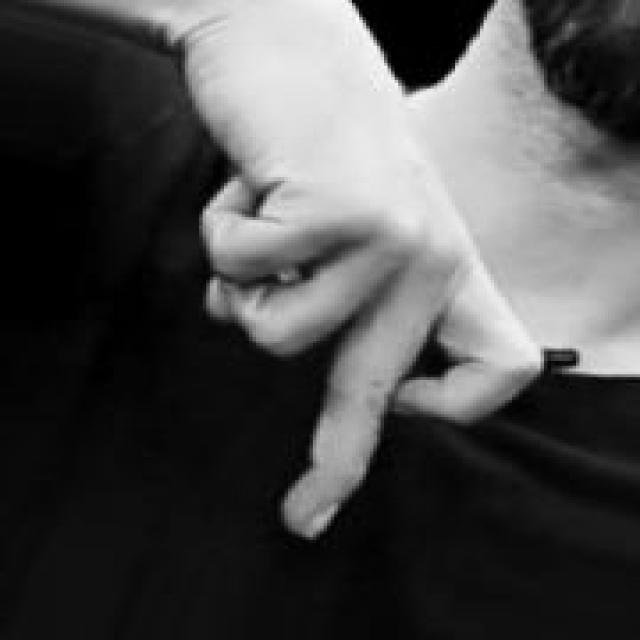P: (183, 2, 552, 546)
